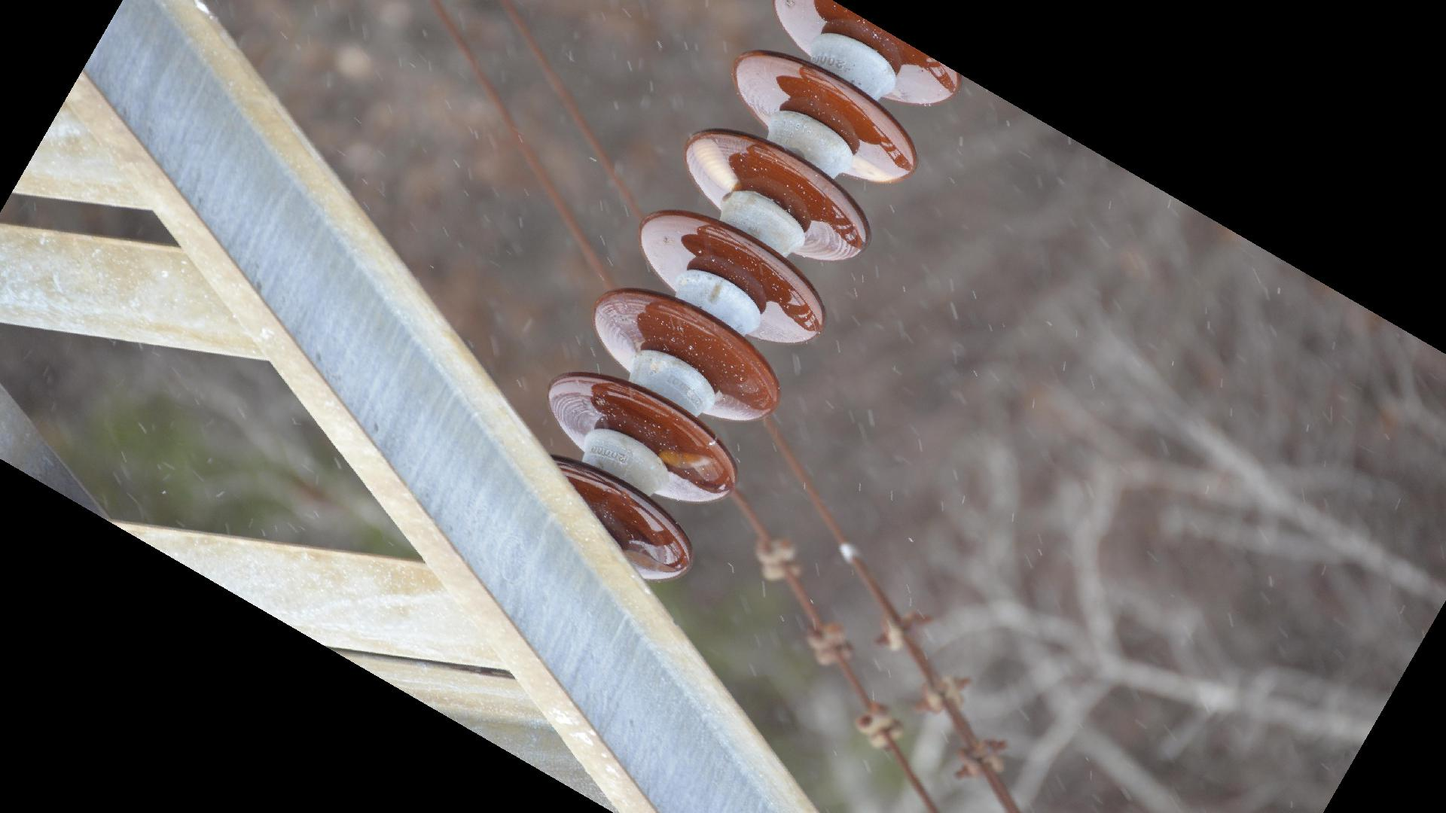insulator: (538, 1, 970, 594)
insulator_flashover: (691, 135, 744, 193), (621, 547, 681, 581), (849, 154, 901, 186), (657, 448, 716, 471)
